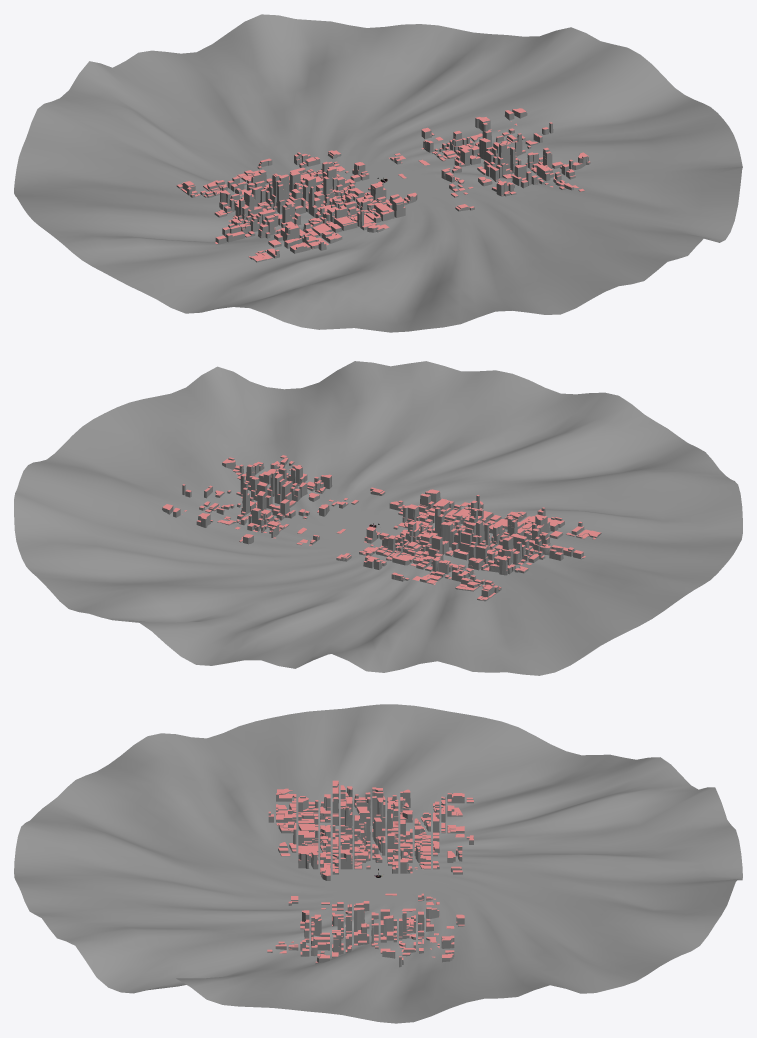
File: CS_OOB_combined.gltf
3 views of the same model, one above another, from view 1: azimuth 30°, elevation 25°; view 2: azimuth 150°, elevation 25°; view 3: azimuth 270°, elevation 25° (orthographic).
Parts seen in each view (by area): view 1: CityGround_01, City_OOB_A (×2); view 2: CityGround_01, City_OOB_A (×2); view 3: CityGround_01, City_OOB_A (×2).
Boxes of the visible parts, x1=… form: CityGround_01: x1=14, y1=14, x2=742, y2=332; City_OOB_A (×2): x1=176, y1=108, x2=590, y2=262; CityGround_01: x1=14, y1=361, x2=742, y2=675; City_OOB_A (×2): x1=162, y1=455, x2=601, y2=601; CityGround_01: x1=14, y1=704, x2=742, y2=1023; City_OOB_A (×2): x1=267, y1=780, x2=473, y2=967.
Size of the model in its own units: 22614 by 1476 by 22614.
